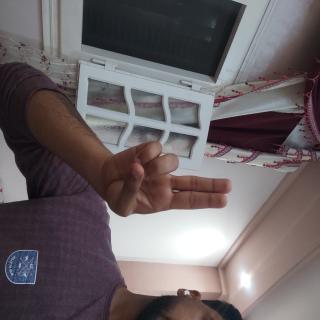TA: (99, 111, 181, 292)
